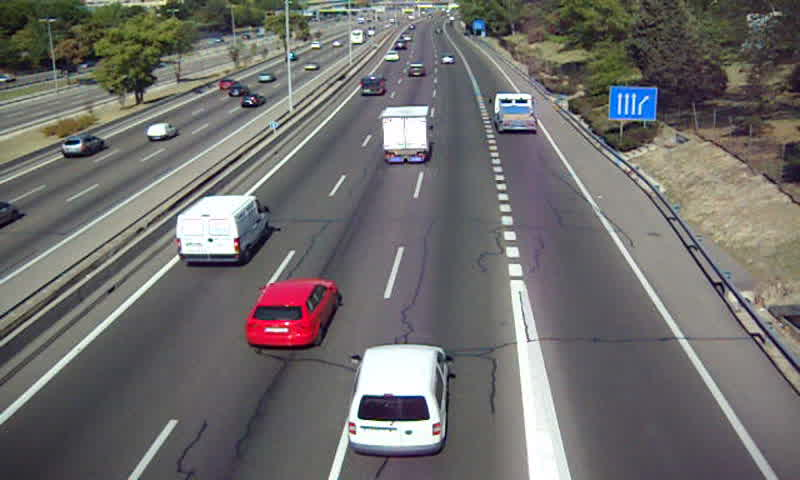car: (345, 344, 450, 460), (244, 278, 336, 349), (406, 62, 426, 79), (383, 49, 399, 62), (440, 54, 457, 66)
small-truck: (380, 106, 432, 164), (492, 92, 537, 132)
van: (178, 195, 269, 264), (358, 74, 386, 98)
